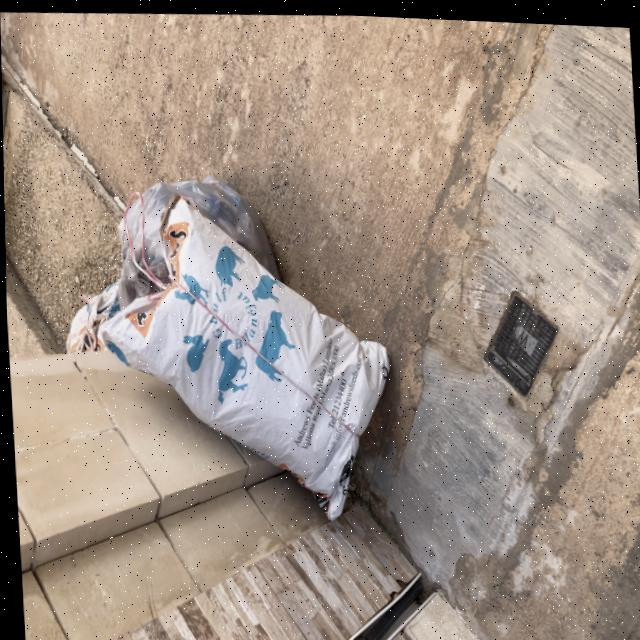Other: (87, 175, 401, 532), (58, 273, 134, 359)
Recycled Waste -Grey or Green Bag-: (110, 162, 286, 320)
